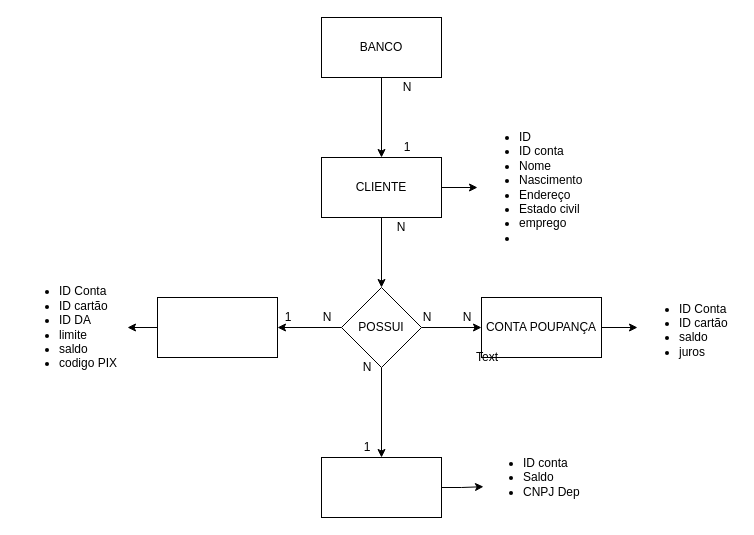
The diagram is 754 pixels wide and 535 high, and some of its shapes have lost their labels. Each missing label, with the centre of its shape:
CONTA CORRENTE: the point at 217,327
CONTA SALÁRIO: the point at 381,487
